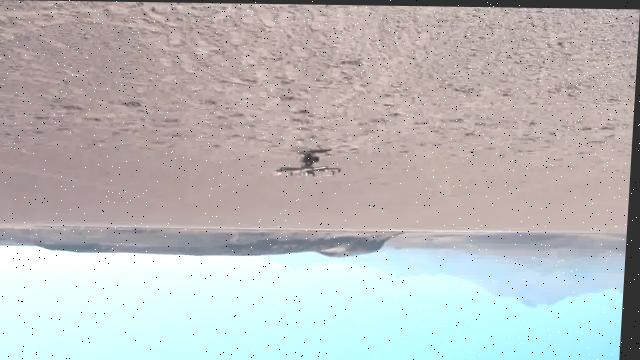drone: (0, 0, 640, 77)
